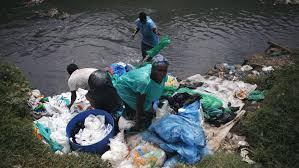Plastic bag: (150, 108, 213, 160), (118, 63, 168, 111), (133, 18, 161, 45)
